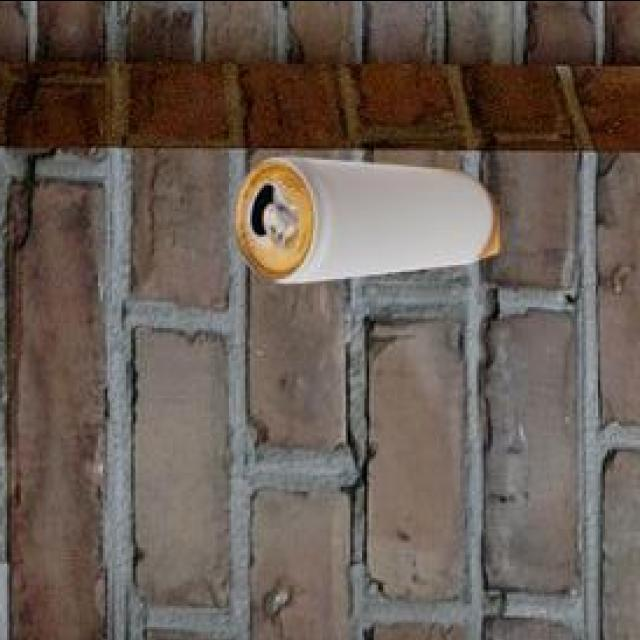logam: (237, 153, 503, 279)
